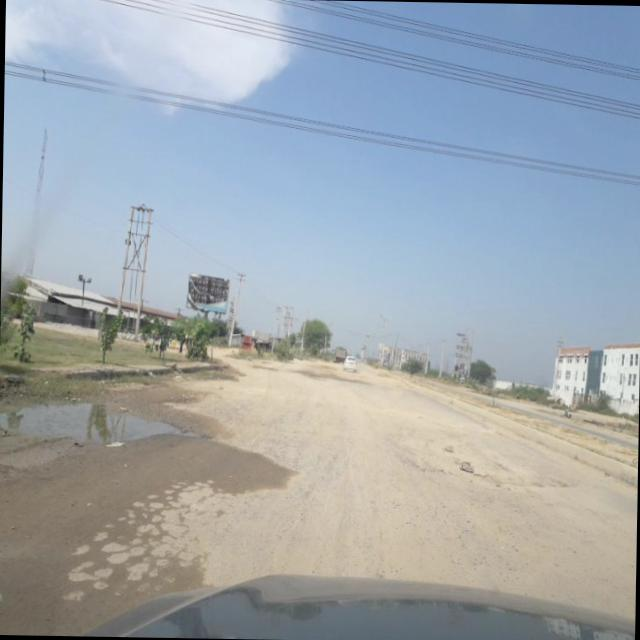crack: (28, 448, 267, 628)
